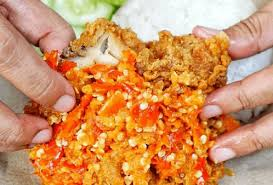ayam_geprek: (35, 22, 231, 185)
